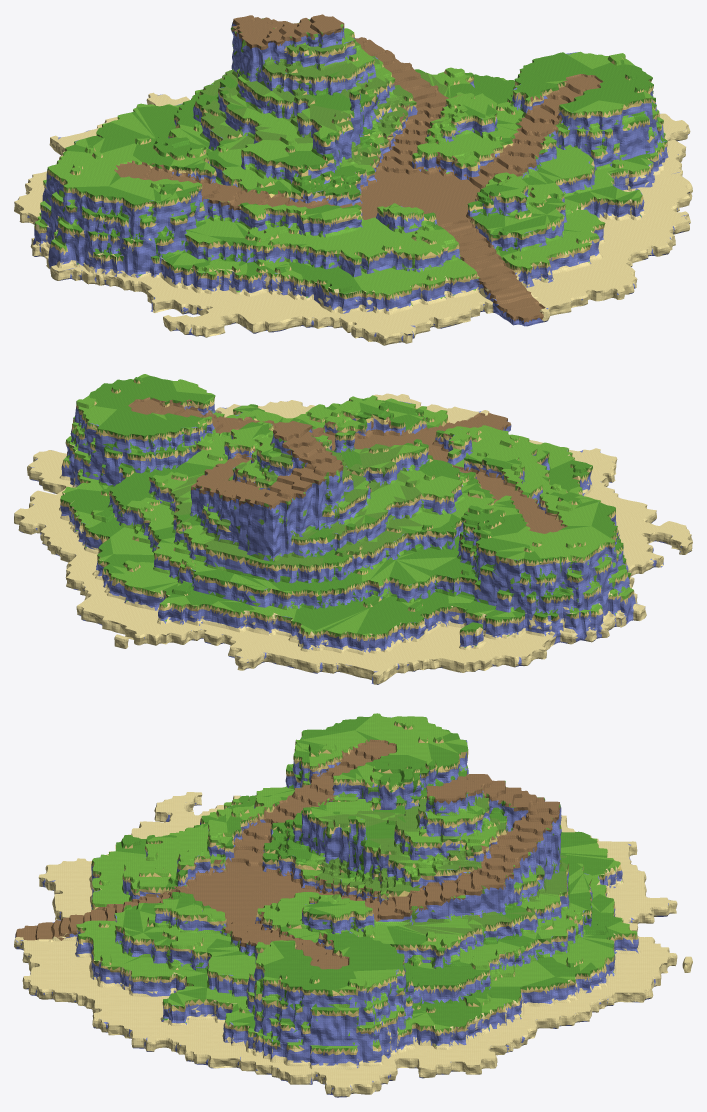
Rendered from VoxelIsland_Terrain.fbx.
3 renders of one model, top to bottom at view 1: azimuth 30°, elevation 25°; view 2: azimuth 150°, elevation 25°; view 3: azimuth 270°, elevation 25°, orthographic. The views are drawn at different scales.
Parts seen in each view (by area): view 1: VoxelIsland_7_9_Grass, VoxelIsland_8_8_Dirt, VoxelIsland_5_8_Rock, VoxelIsland_6_9_Beach, VoxelIsland_6_8_Grass, VoxelIsland_7_7_Stone, VoxelIsland_9_8_Grass, VoxelIsland_7_7_Rock, VoxelIsland_5_7_Grass, VoxelIsland_8_10_Beach, VoxelIsland_6_9_Rock, VoxelIsland_7_10_Beach (+79 smaller); view 2: VoxelIsland_7_6_Rock, VoxelIsland_5_7_Rock, VoxelIsland_6_7_GrassDark, VoxelIsland_7_6_GrassDark, VoxelIsland_9_7_GrassDark, VoxelIsland_8_6_Rock, VoxelIsland_5_7_Grass, VoxelIsland_7_5_Beach, VoxelIsland_8_5_Beach, VoxelIsland_6_6_GrassDark, VoxelIsland_8_6_Grass, VoxelIsland_7_9_Grass (+76 smaller); view 3: VoxelIsland_10_8_Rock, VoxelIsland_7_9_Grass, VoxelIsland_8_7_Rock, VoxelIsland_8_6_Rock, VoxelIsland_9_7_GrassDark, VoxelIsland_9_9_Beach, VoxelIsland_10_7_Rock, VoxelIsland_10_7_Beach, VoxelIsland_8_6_Grass, VoxelIsland_8_8_Dirt, VoxelIsland_8_9_Grass, VoxelIsland_8_7_Dirt (+78 smaller).
Part boxes in pixels (bbox=[...]): VoxelIsland_7_9_Grass: bbox=[320, 203, 476, 294]; VoxelIsland_8_8_Dirt: bbox=[373, 117, 523, 219]; VoxelIsland_5_8_Rock: bbox=[60, 199, 209, 311]; VoxelIsland_6_9_Beach: bbox=[202, 269, 376, 333]; VoxelIsland_6_8_Grass: bbox=[154, 153, 319, 279]; VoxelIsland_7_7_Stone: bbox=[207, 31, 341, 149]; VoxelIsland_9_8_Grass: bbox=[463, 80, 628, 183]; VoxelIsland_7_7_Rock: bbox=[207, 34, 360, 166]; VoxelIsland_5_7_Grass: bbox=[34, 138, 141, 251]; VoxelIsland_8_10_Beach: bbox=[516, 251, 625, 321]; VoxelIsland_6_9_Rock: bbox=[212, 221, 376, 333]; VoxelIsland_7_10_Beach: bbox=[376, 276, 494, 343]; VoxelIsland_7_6_Rock: bbox=[231, 450, 379, 632]; VoxelIsland_5_7_Rock: bbox=[496, 538, 644, 644]; VoxelIsland_6_7_GrassDark: bbox=[397, 500, 528, 608]; VoxelIsland_7_6_GrassDark: bbox=[219, 479, 395, 630]; VoxelIsland_9_7_GrassDark: bbox=[75, 409, 213, 512]; VoxelIsland_8_6_Rock: bbox=[153, 447, 290, 599]; VoxelIsland_5_7_Grass: bbox=[497, 515, 633, 617]; VoxelIsland_7_5_Beach: bbox=[209, 610, 332, 672]; VoxelIsland_8_5_Beach: bbox=[94, 590, 222, 648]; VoxelIsland_6_6_GrassDark: bbox=[317, 560, 495, 647]; VoxelIsland_8_6_Grass: bbox=[112, 449, 282, 601]; VoxelIsland_7_9_Grass: bbox=[444, 425, 572, 471]; VoxelIsland_10_8_Rock: bbox=[225, 967, 352, 1084]; VoxelIsland_7_9_Grass: bbox=[93, 820, 228, 906]; VoxelIsland_8_7_Rock: bbox=[348, 790, 475, 925]; VoxelIsland_8_6_Rock: bbox=[473, 795, 592, 959]; VoxelIsland_9_7_GrassDark: bbox=[349, 926, 476, 1018]; VoxelIsland_9_9_Beach: bbox=[94, 966, 224, 1038]; VoxelIsland_10_7_Rock: bbox=[345, 969, 474, 1093]; VoxelIsland_10_7_Beach: bbox=[345, 1018, 476, 1094]; VoxelIsland_8_6_Grass: bbox=[467, 802, 612, 966]; VoxelIsland_8_8_Dirt: bbox=[190, 879, 349, 937]; VoxelIsland_8_9_Grass: bbox=[94, 899, 229, 963]; VoxelIsland_8_7_Dirt: bbox=[348, 786, 476, 921].
Bounding box in the file's own units: 381 × 86.01 × 349.
7 materials, 7 textured.
